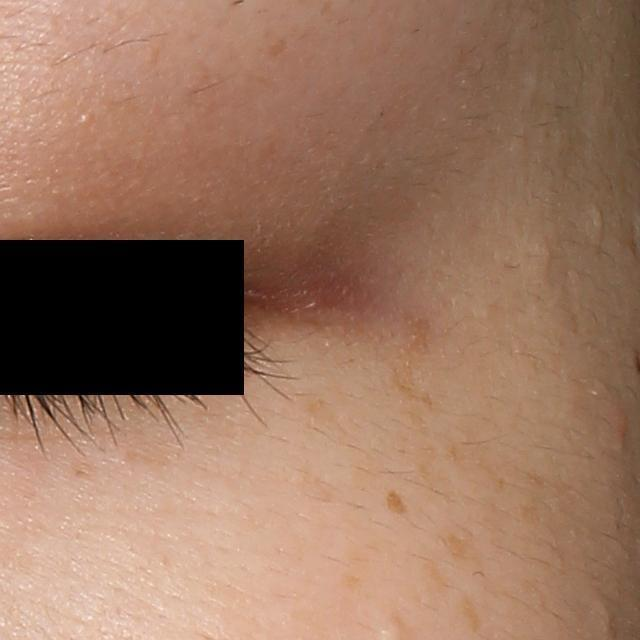melasma: (389, 316, 436, 411), (452, 590, 483, 634), (423, 559, 448, 590), (265, 38, 292, 59)
